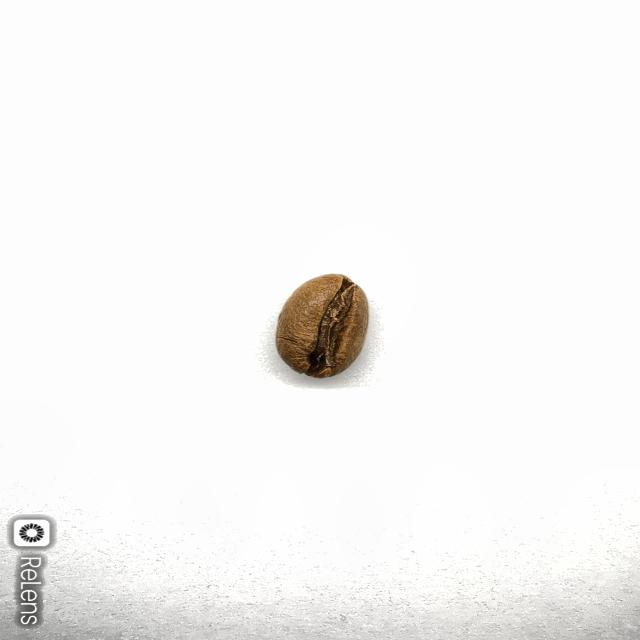Good bean: (274, 272, 370, 379)
